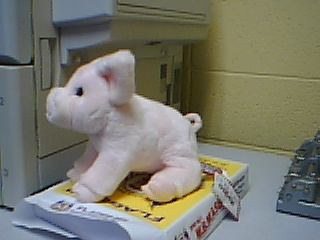piggy: (44, 48, 205, 204)
